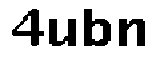4: (6, 3, 47, 50)
b: (82, 6, 113, 50)
n: (116, 13, 151, 55)
u: (46, 13, 80, 50)
